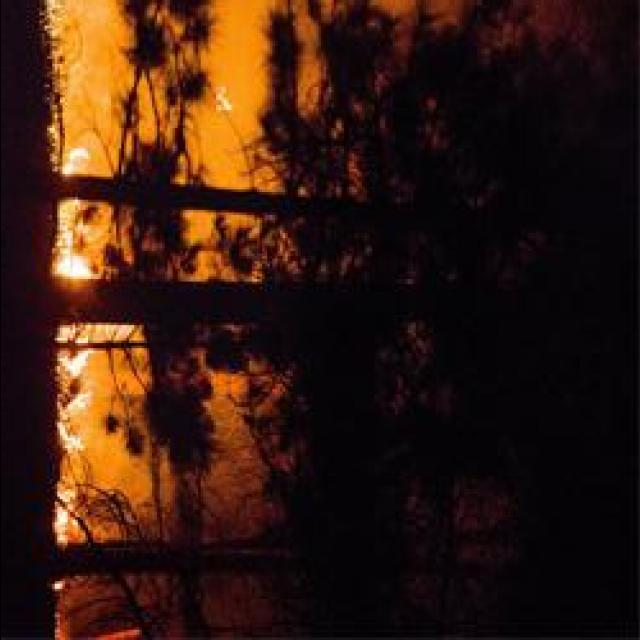fire: (44, 142, 136, 328), (50, 327, 90, 540), (44, 0, 108, 98), (198, 88, 236, 118), (48, 581, 101, 600)
smoke: (118, 363, 296, 524), (278, 14, 420, 140), (168, 205, 282, 288)
